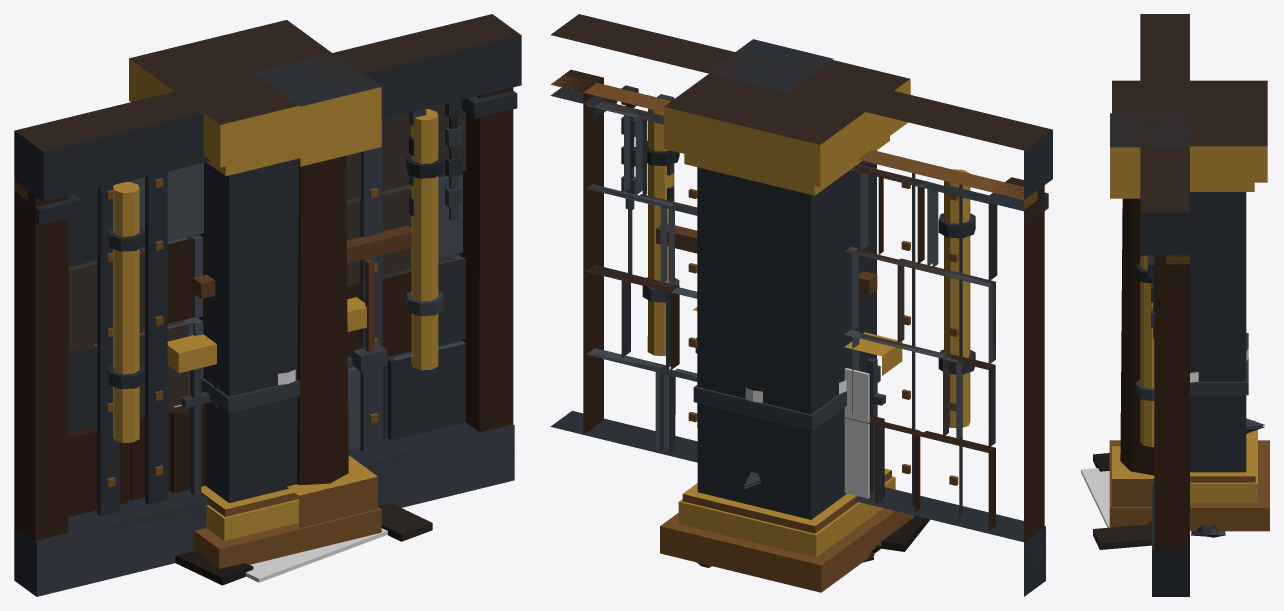
File: dungeon-forge.glb
The picture shows the model from 3 angles, left to right: view 1: azimuth 30°, elevation 25°; view 2: azimuth 150°, elevation 25°; view 3: azimuth 270°, elevation 25°; orthographic projection. The views are drawn at different scales.
Parts seen in each view (by area): view 1: dk_forge_wall0, dk_forge_cornerOut, dk_forge_wall2, dk_forge_cornerIn, dk_forge_wall3, dk_forge_wall1, dk_forge_pillar0, dk_forge_wall1Glow; view 2: dk_forge_cornerOut, dk_forge_wall0, dk_forge_pillar0, dk_forge_wall2, dk_forge_wall3, dk_forge_wall1, dk_forge_cornerIn, dk_forge_wall2Glow; view 3: dk_forge_cornerOut, dk_forge_wall0, dk_forge_pillar0, dk_forge_cornerIn, dk_forge_wall2, dk_forge_wall1, dk_forge_wall1Glow, dk_forge_scatter1.
Boxes of the visible parts, box(x1,y1,x2,y2) form: dk_forge_wall0: box(14, 14, 521, 596); dk_forge_cornerOut: box(144, 26, 359, 516); dk_forge_wall2: box(40, 109, 514, 541); dk_forge_cornerIn: box(254, 53, 381, 528); dk_forge_wall3: box(68, 100, 465, 516); dk_forge_wall1: box(18, 104, 465, 593); dk_forge_pillar0: box(129, 20, 381, 568); dk_forge_wall1Glow: box(245, 528, 387, 582); dk_forge_cornerOut: box(679, 57, 891, 533); dk_forge_wall0: box(550, 14, 1052, 596); dk_forge_pillar0: box(660, 49, 914, 592); dk_forge_wall2: box(587, 108, 995, 492); dk_forge_wall3: box(586, 85, 997, 529); dk_forge_wall1: box(586, 100, 1045, 575); dk_forge_cornerIn: box(707, 39, 833, 92); dk_forge_wall2Glow: box(844, 368, 869, 498); dk_forge_cornerOut: box(1121, 84, 1257, 482); dk_forge_wall0: box(1140, 14, 1189, 596); dk_forge_pillar0: box(1109, 80, 1269, 531); dk_forge_cornerIn: box(1110, 113, 1189, 506); dk_forge_wall2: box(1135, 255, 1154, 447); dk_forge_wall1: box(1093, 453, 1151, 549); dk_forge_wall1Glow: box(1081, 468, 1109, 527); dk_forge_scatter1: box(1191, 524, 1225, 537).
Bounding box in the file's own units: 4 × 3.67 × 1.6.
